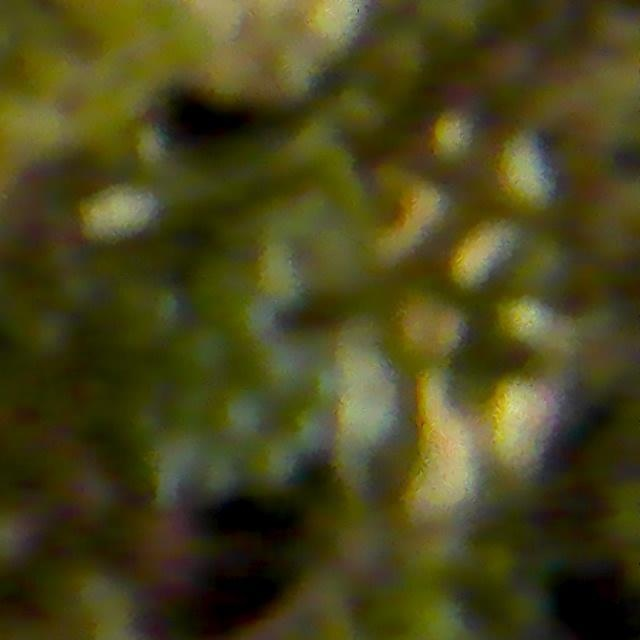SeaGrape: (59, 462, 124, 527), (177, 321, 237, 381), (216, 387, 271, 445)
